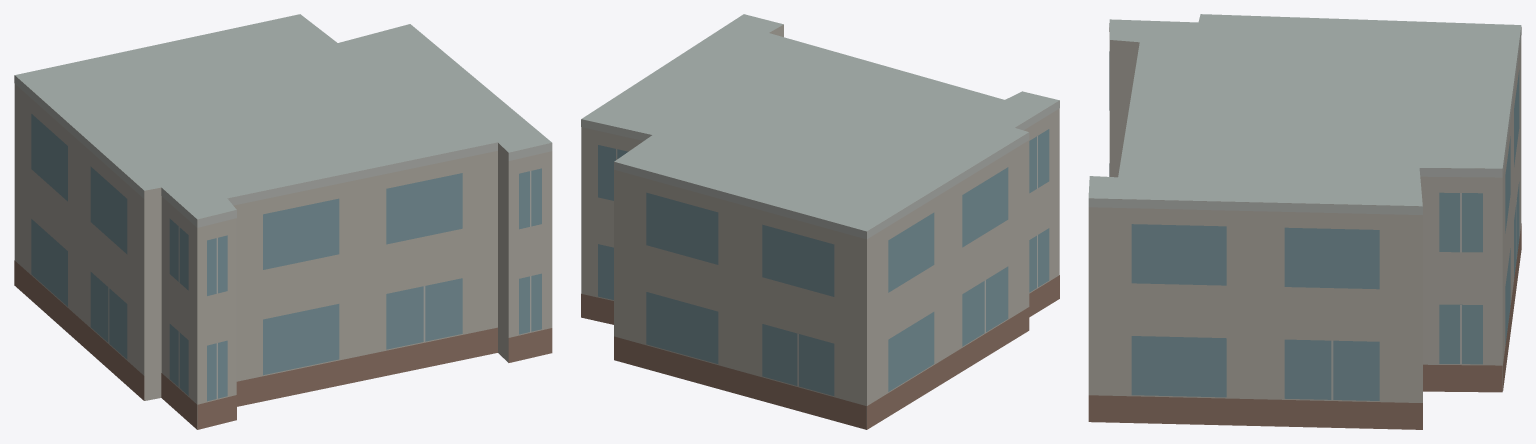
File: survey-upis-32657682.glb
The picture shows the model from 3 angles, left to right: view 1: azimuth 30°, elevation 25°; view 2: azimuth 150°, elevation 25°; view 3: azimuth 270°, elevation 25°; orthographic projection. The views are drawn at different scales.
Parts seen in each view (by area): view 1: survey-upis-32657682.tmp; view 2: survey-upis-32657682.tmp; view 3: survey-upis-32657682.tmp.
Part boxes in pixels (bbox=[...]): survey-upis-32657682.tmp: bbox=[14, 14, 552, 429]; survey-upis-32657682.tmp: bbox=[581, 14, 1059, 429]; survey-upis-32657682.tmp: bbox=[1088, 14, 1521, 429].
Bounding box in the file's own units: 11.25 × 6.1 × 10.71.
